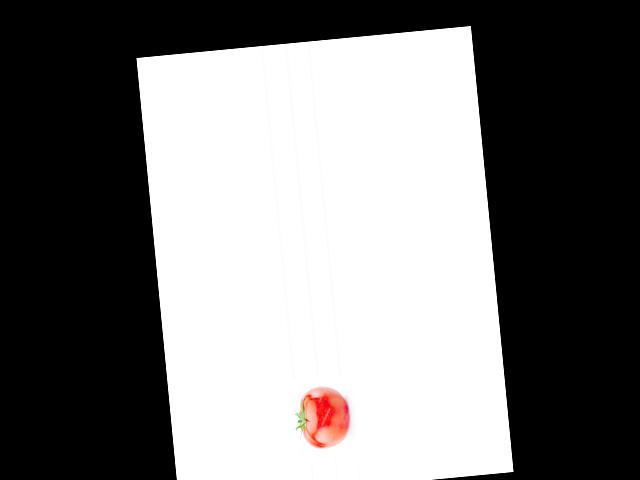tomato: (296, 384, 350, 451)
